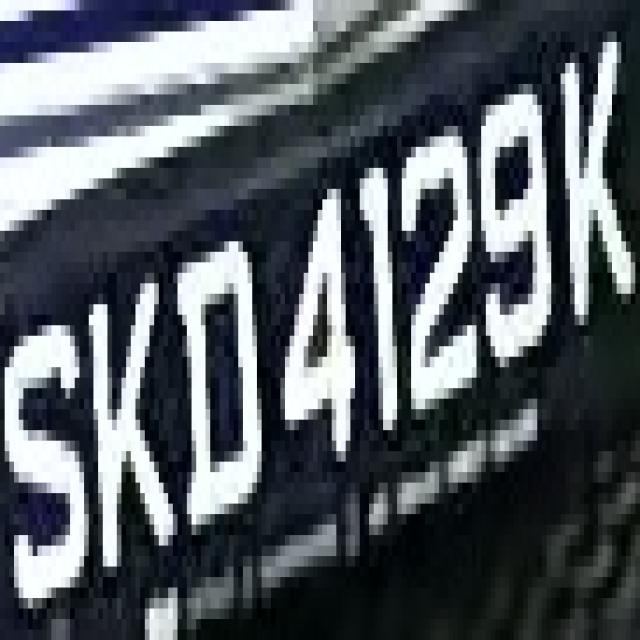1: (351, 94, 406, 462)
2: (392, 63, 482, 441)
4: (271, 168, 364, 482)
9: (467, 31, 551, 398)
D: (168, 200, 266, 524)
K: (75, 231, 173, 598), (542, 21, 640, 388)
S: (9, 283, 89, 640)
